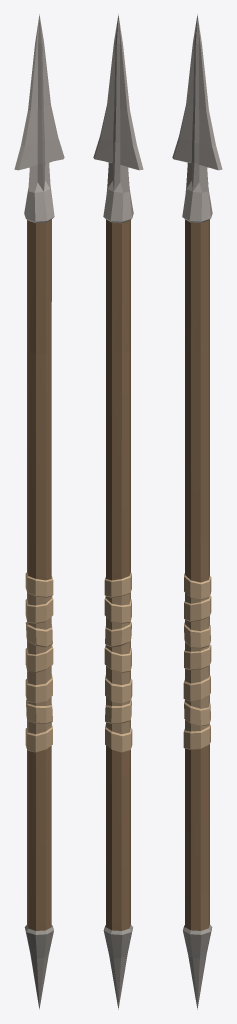
The model's file is SM_pwe_fantasy_javelin_02.fbx.
3 renders of one model, left to right at view 1: azimuth 30°, elevation 25°; view 2: azimuth 150°, elevation 25°; view 3: azimuth 330°, elevation 25°, orthographic.
Parts seen in each view (by area): view 1: SM_pwe_fantasy_javelin_02; view 2: SM_pwe_fantasy_javelin_02; view 3: SM_pwe_fantasy_javelin_02.
Boxes of the visible parts, <box> form: SM_pwe_fantasy_javelin_02: <box>14,14,64,1009</box>; SM_pwe_fantasy_javelin_02: <box>93,14,143,1009</box>; SM_pwe_fantasy_javelin_02: <box>172,14,222,1009</box>.
Size of the model in its own units: 10.28 by 195 by 5.58.
